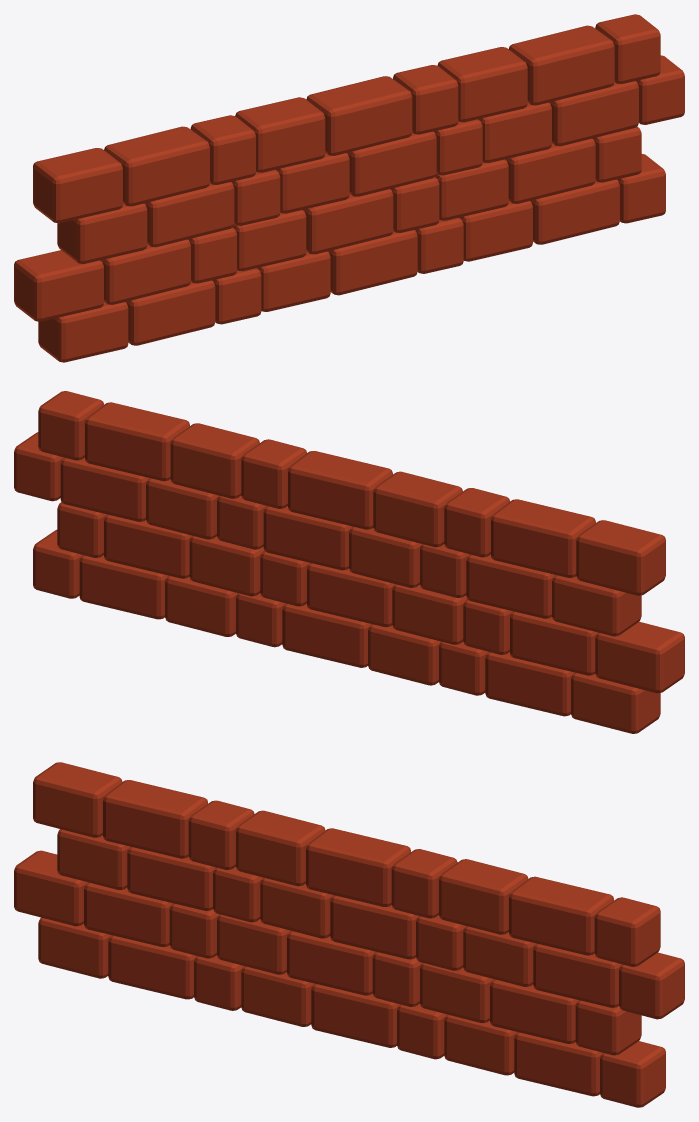
File: muro.fbx
3 views of the same model, one above another, from view 1: azimuth 30°, elevation 25°; view 2: azimuth 150°, elevation 25°; view 3: azimuth 330°, elevation 25° (orthographic).
Visible parts, largest first — view 1: Cube.008; view 2: Cube.008; view 3: Cube.008.
Part boxes in pixels (x1=…): Cube.008: x1=14, y1=14, x2=684, y2=362; Cube.008: x1=14, y1=391, x2=684, y2=733; Cube.008: x1=14, y1=762, x2=684, y2=1107.
Bounding box in the file's own units: 226 × 800 × 2918.
1 material, 1 textured.
